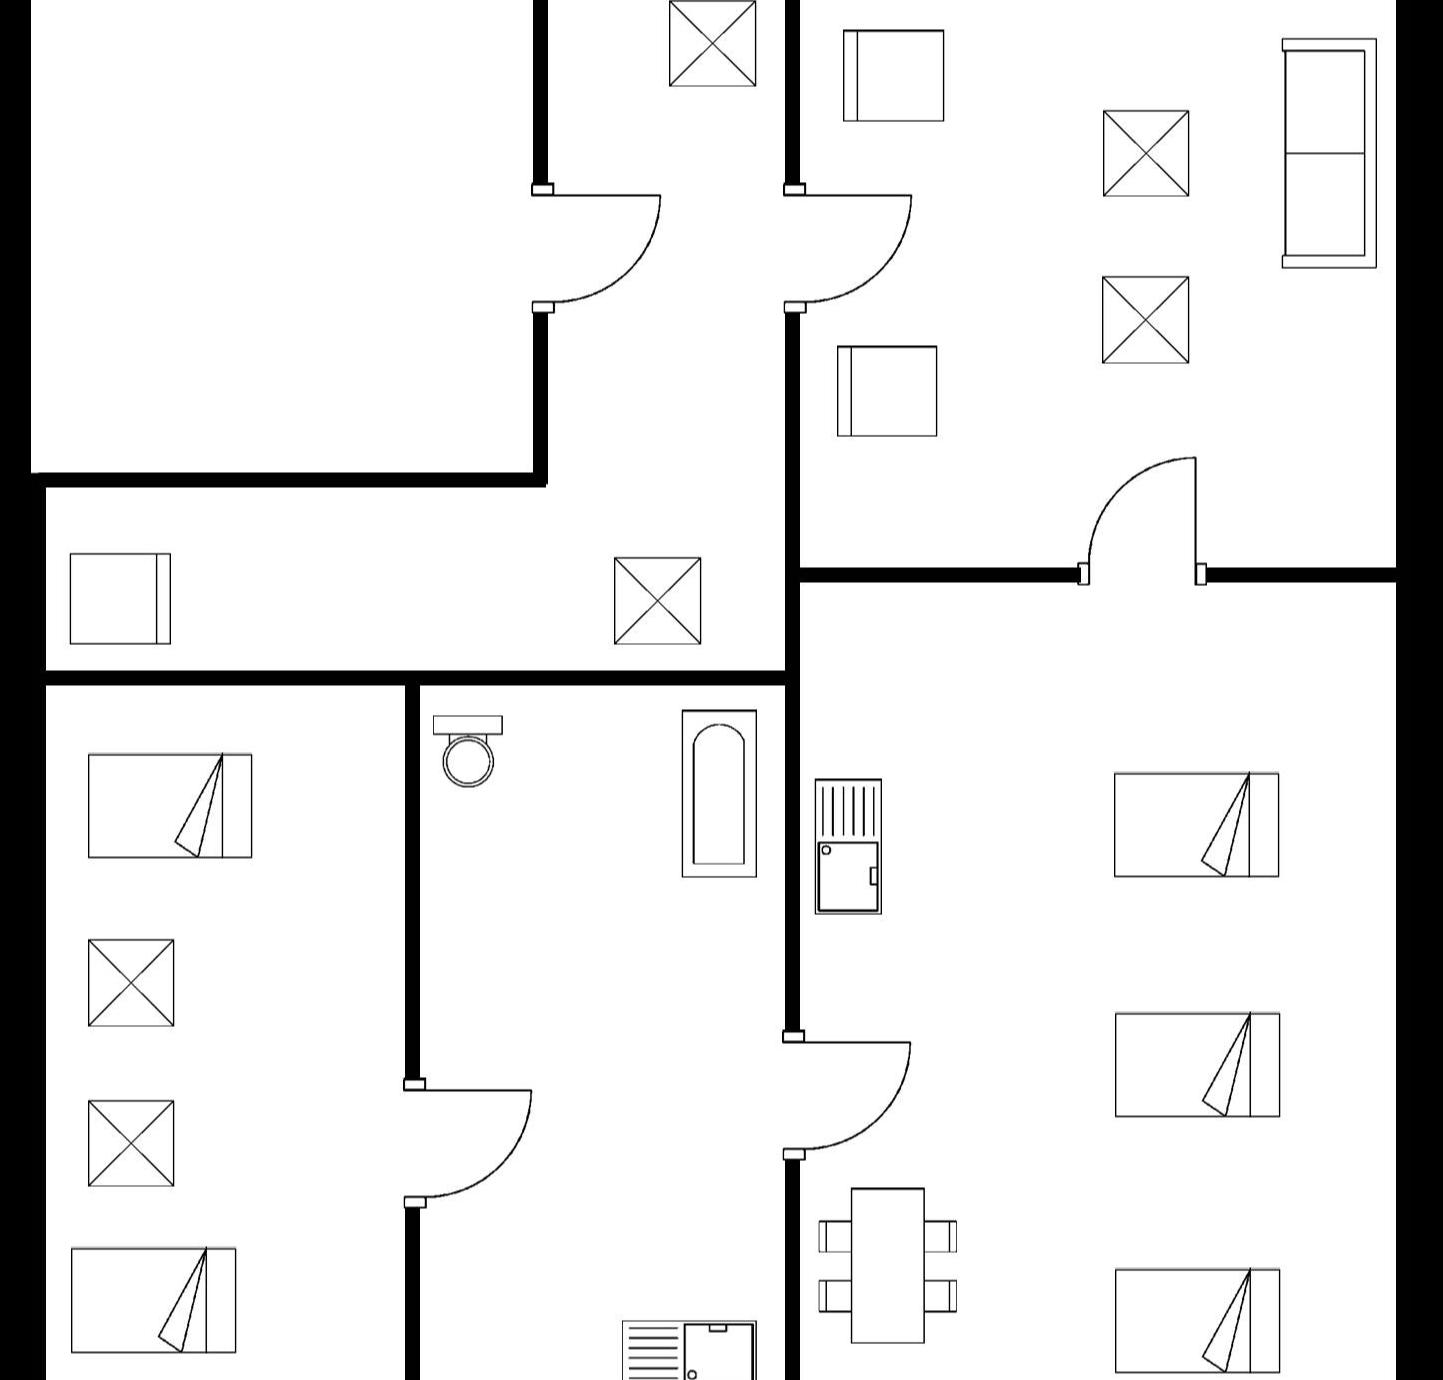bed: (1107, 999, 1296, 1129), (1100, 1255, 1294, 1380), (80, 741, 265, 870), (62, 1237, 246, 1365), (1103, 762, 1288, 886)
dining_table: (808, 1173, 969, 1349)
sink: (807, 765, 893, 921), (613, 1307, 770, 1380)
sofa: (1265, 24, 1388, 280)
toilet: (425, 706, 518, 795)
